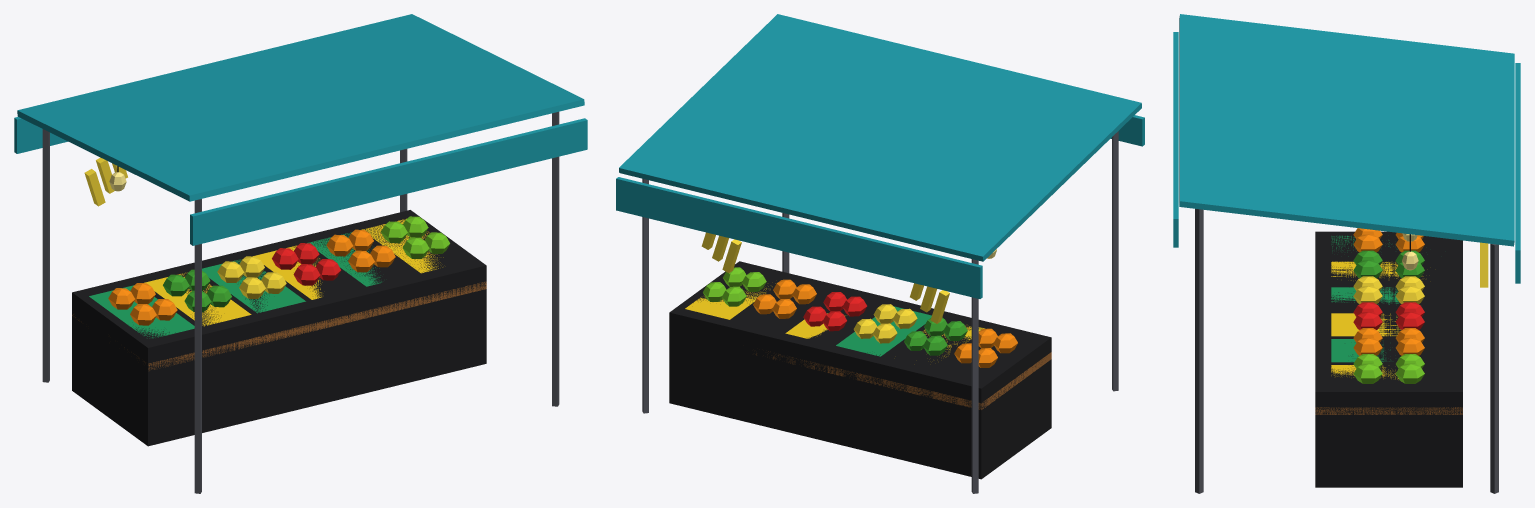
File: env_market_canopy_teal.fbx
3 renders of one model, left to right at view 1: azimuth 30°, elevation 25°; view 2: azimuth 150°, elevation 25°; view 3: azimuth 270°, elevation 25°, orthographic. The views are drawn at different scales.
Visible parts, largest first — view 1: env_market_canopy_teal_geo_LOD0, COL_env_market_canopy_teal; view 2: env_market_canopy_teal_geo_LOD0, COL_env_market_canopy_teal; view 3: env_market_canopy_teal_geo_LOD0, COL_env_market_canopy_teal.
Boxes of the visible parts, bbox=[...] form: env_market_canopy_teal_geo_LOD0: bbox=[14, 14, 587, 493]; COL_env_market_canopy_teal: bbox=[72, 210, 486, 446]; env_market_canopy_teal_geo_LOD0: bbox=[616, 14, 1144, 493]; COL_env_market_canopy_teal: bbox=[669, 261, 1051, 479]; env_market_canopy_teal_geo_LOD0: bbox=[1173, 14, 1520, 493]; COL_env_market_canopy_teal: bbox=[1315, 231, 1462, 487].
Size of what is drawn, in the model's own units: 4.2 by 3.14 by 3.29.
